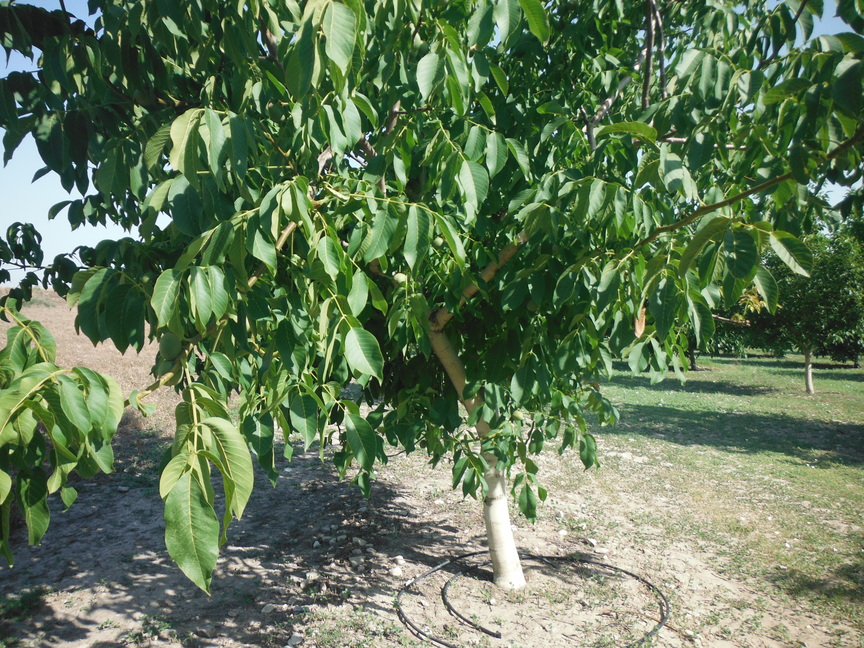walnut: (153, 326, 190, 364), (152, 354, 188, 391), (130, 84, 159, 111), (386, 268, 413, 292), (266, 97, 288, 125), (425, 232, 450, 253), (521, 295, 543, 318), (412, 35, 432, 60), (415, 434, 432, 454), (508, 408, 528, 425), (440, 238, 452, 249)
